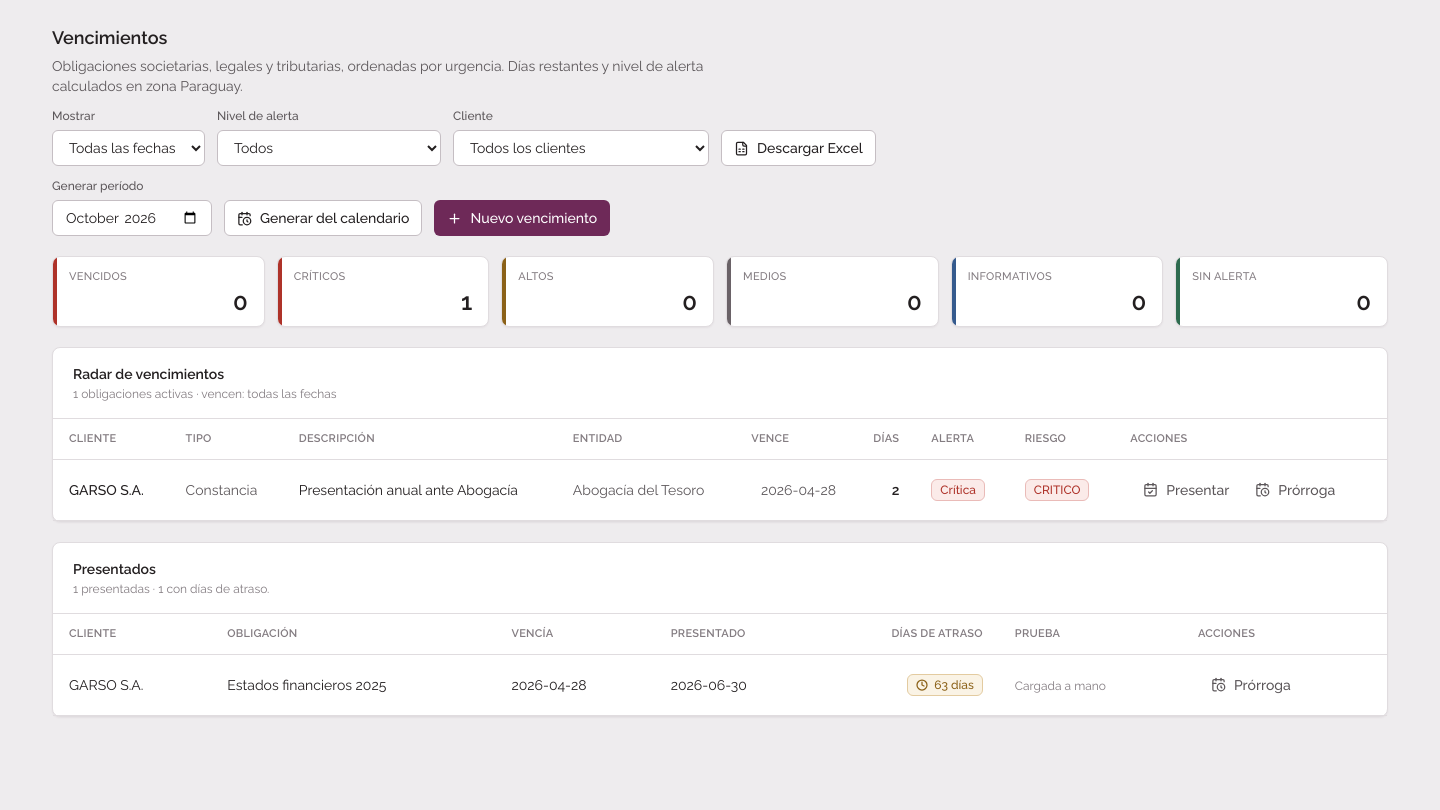
it: radar de vencimientos › prórroga de lo ya presentado › sin motivo no deja aplicar: una fecha sin resolución es un número sin explicación
This screenshot has width=1440, height=810.
Check: the text "Presentación anual ante Abogacía" is shown, box left=283, top=459, right=557, bottom=520
Check: the text "Estados financieros 2025" is shown, box left=211, top=654, right=495, bottom=715
Click the button with aria-label "Prorrogar: Estados financieros 2025" at (1251, 684), box left=1198, top=666, right=1304, bottom=702
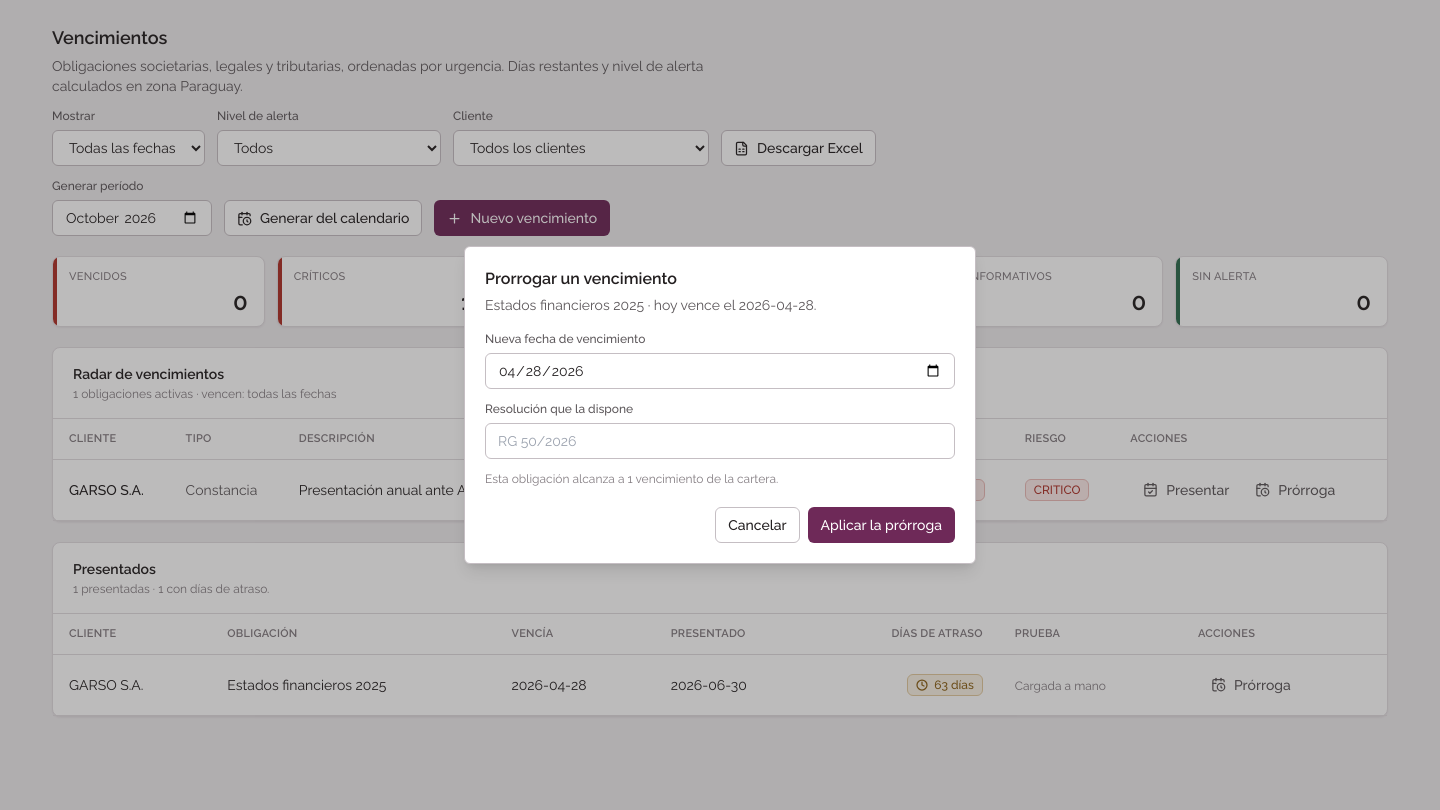
Check: the dialog "Prorrogar" is shown, box left=464, top=246, right=976, bottom=564
Click the button "Aplicar la prórroga" at (881, 525), box left=808, top=507, right=955, bottom=543
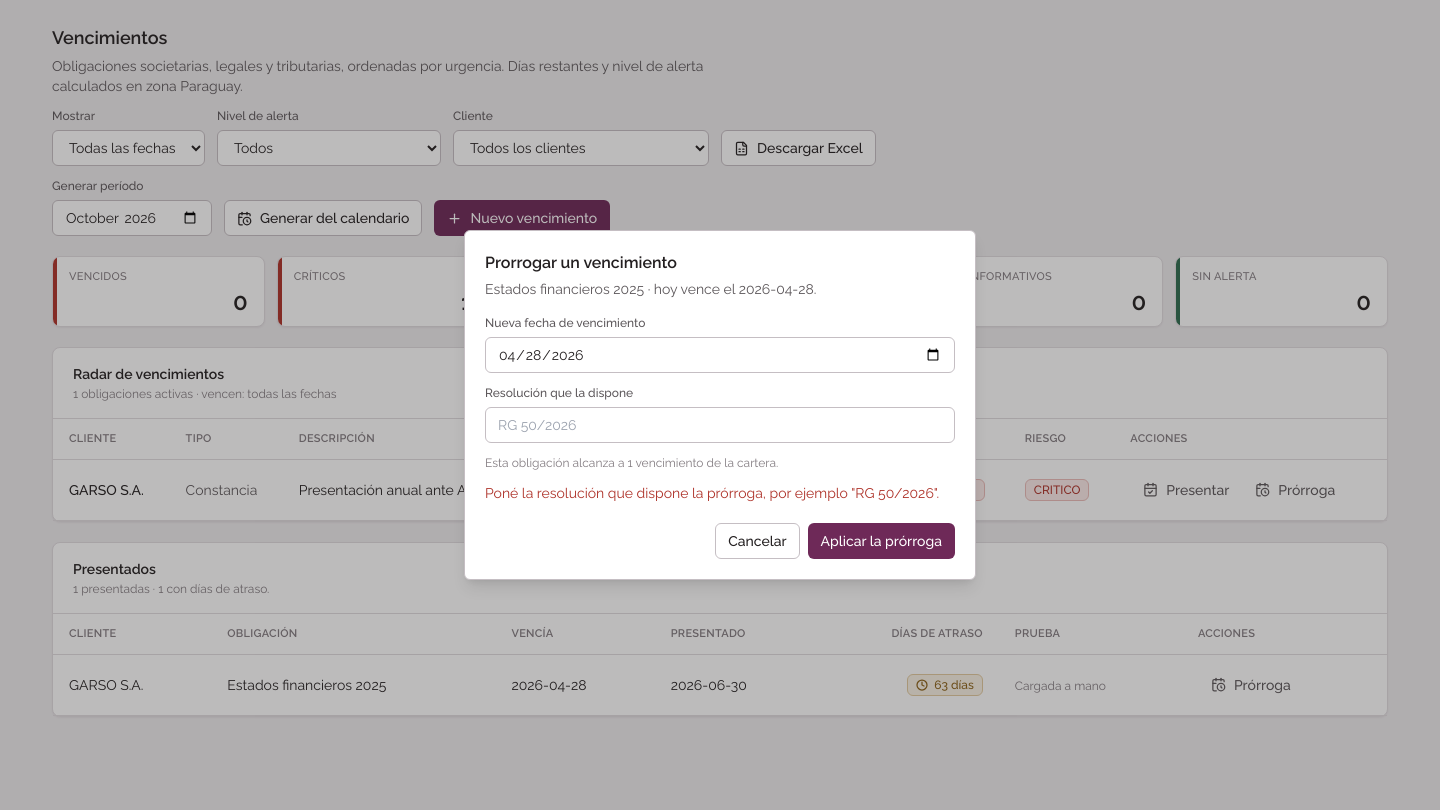
Check: the text "Poné la resolución que dispone la prórroga, por ejemplo \"RG 50/2026\"." is shown, box left=485, top=483, right=955, bottom=503
